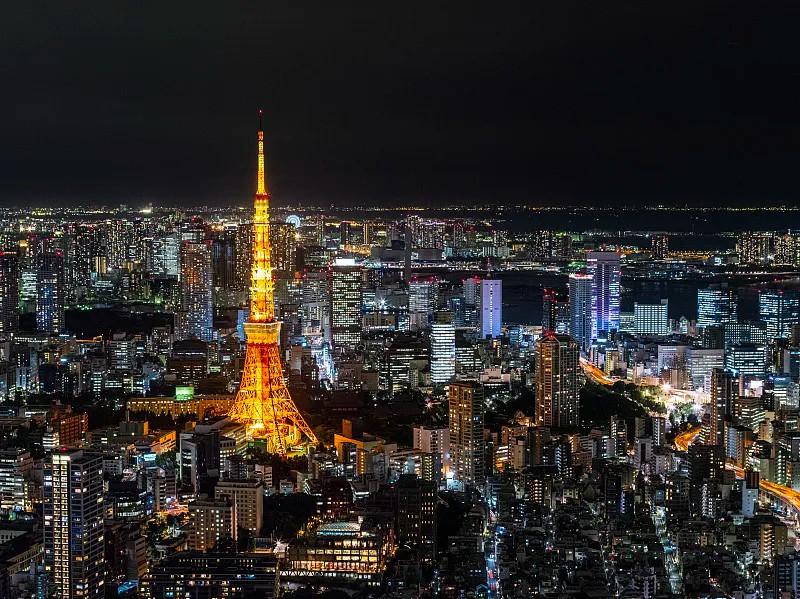Tokyo: (223, 105, 320, 461)
